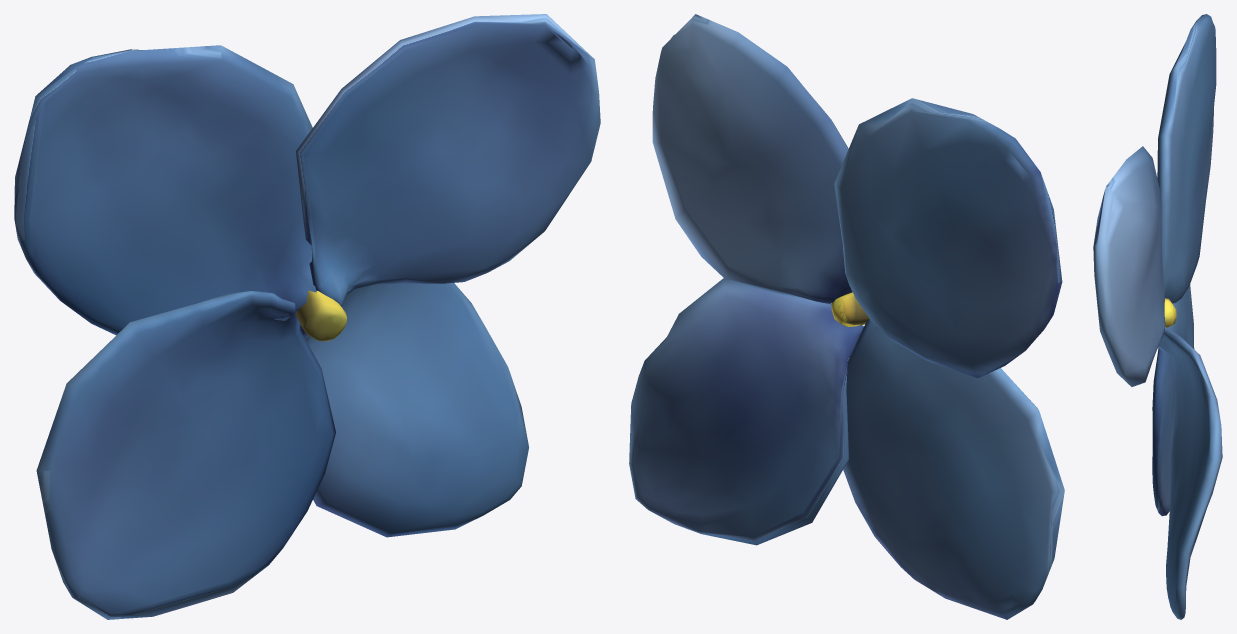
The picture shows the model from 3 angles, left to right: view 1: azimuth 30°, elevation 25°; view 2: azimuth 150°, elevation 25°; view 3: azimuth 270°, elevation 25°; orthographic projection. The views are drawn at different scales.
Visible parts, largest first — view 1: hortensja.005; view 2: hortensja.005; view 3: hortensja.005.
Part boxes in pixels (x1,y1,x2,y2): hortensja.005: (14, 14, 600, 619); hortensja.005: (629, 14, 1064, 619); hortensja.005: (1093, 14, 1222, 619).
Bounding box in the file's own units: 1.21 × 1.25 × 0.3151.
Materials: 1 (1 with a texture image).
